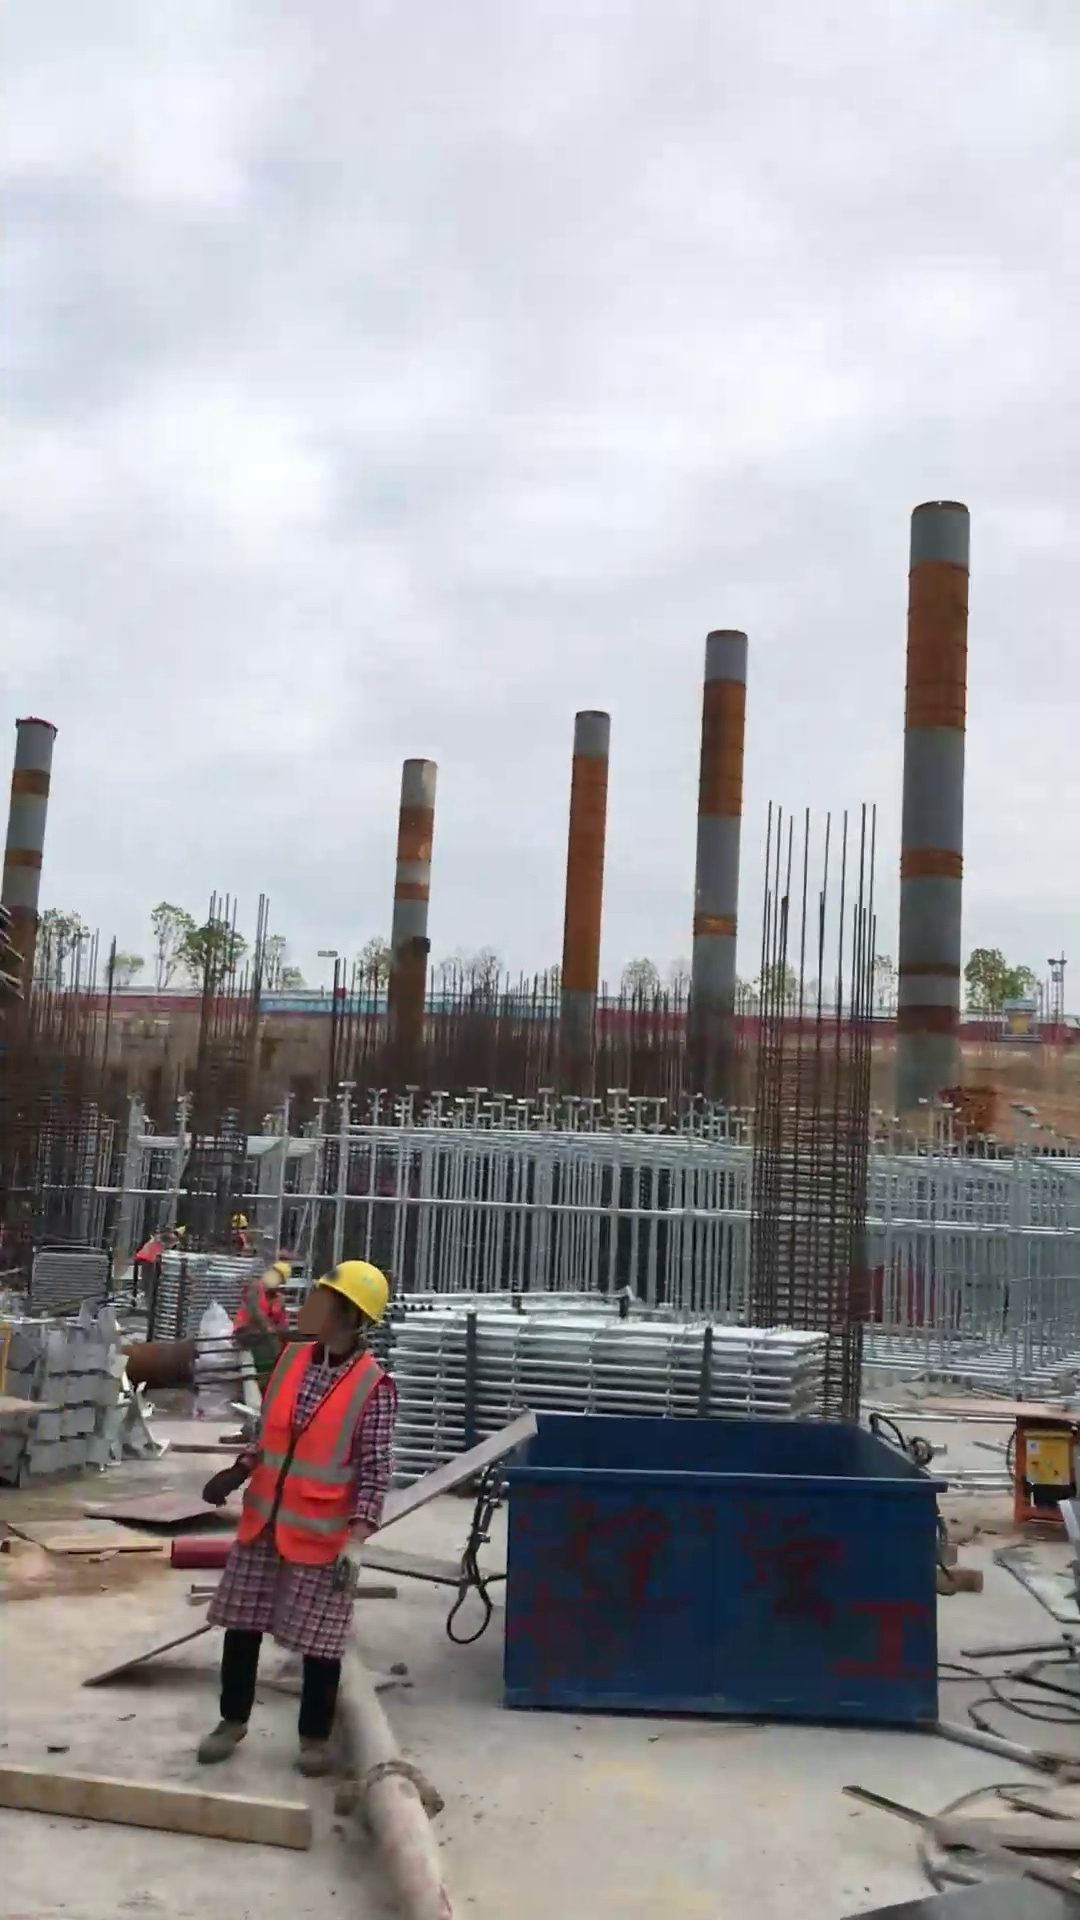cutter: (945, 1397, 1080, 1533)
helmet: (313, 1256, 394, 1332), (267, 1257, 291, 1286), (230, 1212, 248, 1228)
hopper: (494, 1407, 948, 1735)
person: (194, 1255, 401, 1777), (231, 1256, 292, 1357)
scaffold: (395, 1289, 834, 1492), (151, 1249, 255, 1344), (23, 1243, 115, 1326)
slogan: (256, 996, 442, 1012)
vest: (232, 1339, 386, 1568), (233, 1278, 286, 1334), (133, 1231, 165, 1265)
